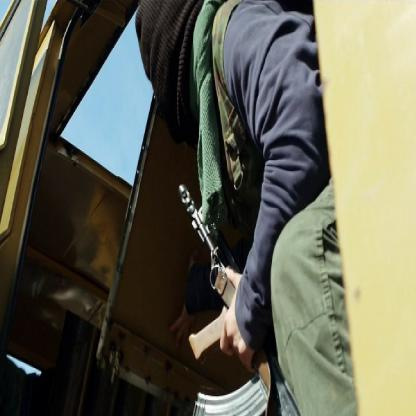Gun: (174, 180, 302, 414)
